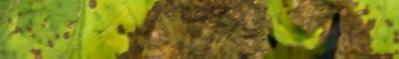Tomato Septoria leaf spot: (0, 0, 266, 59), (299, 0, 399, 59)
